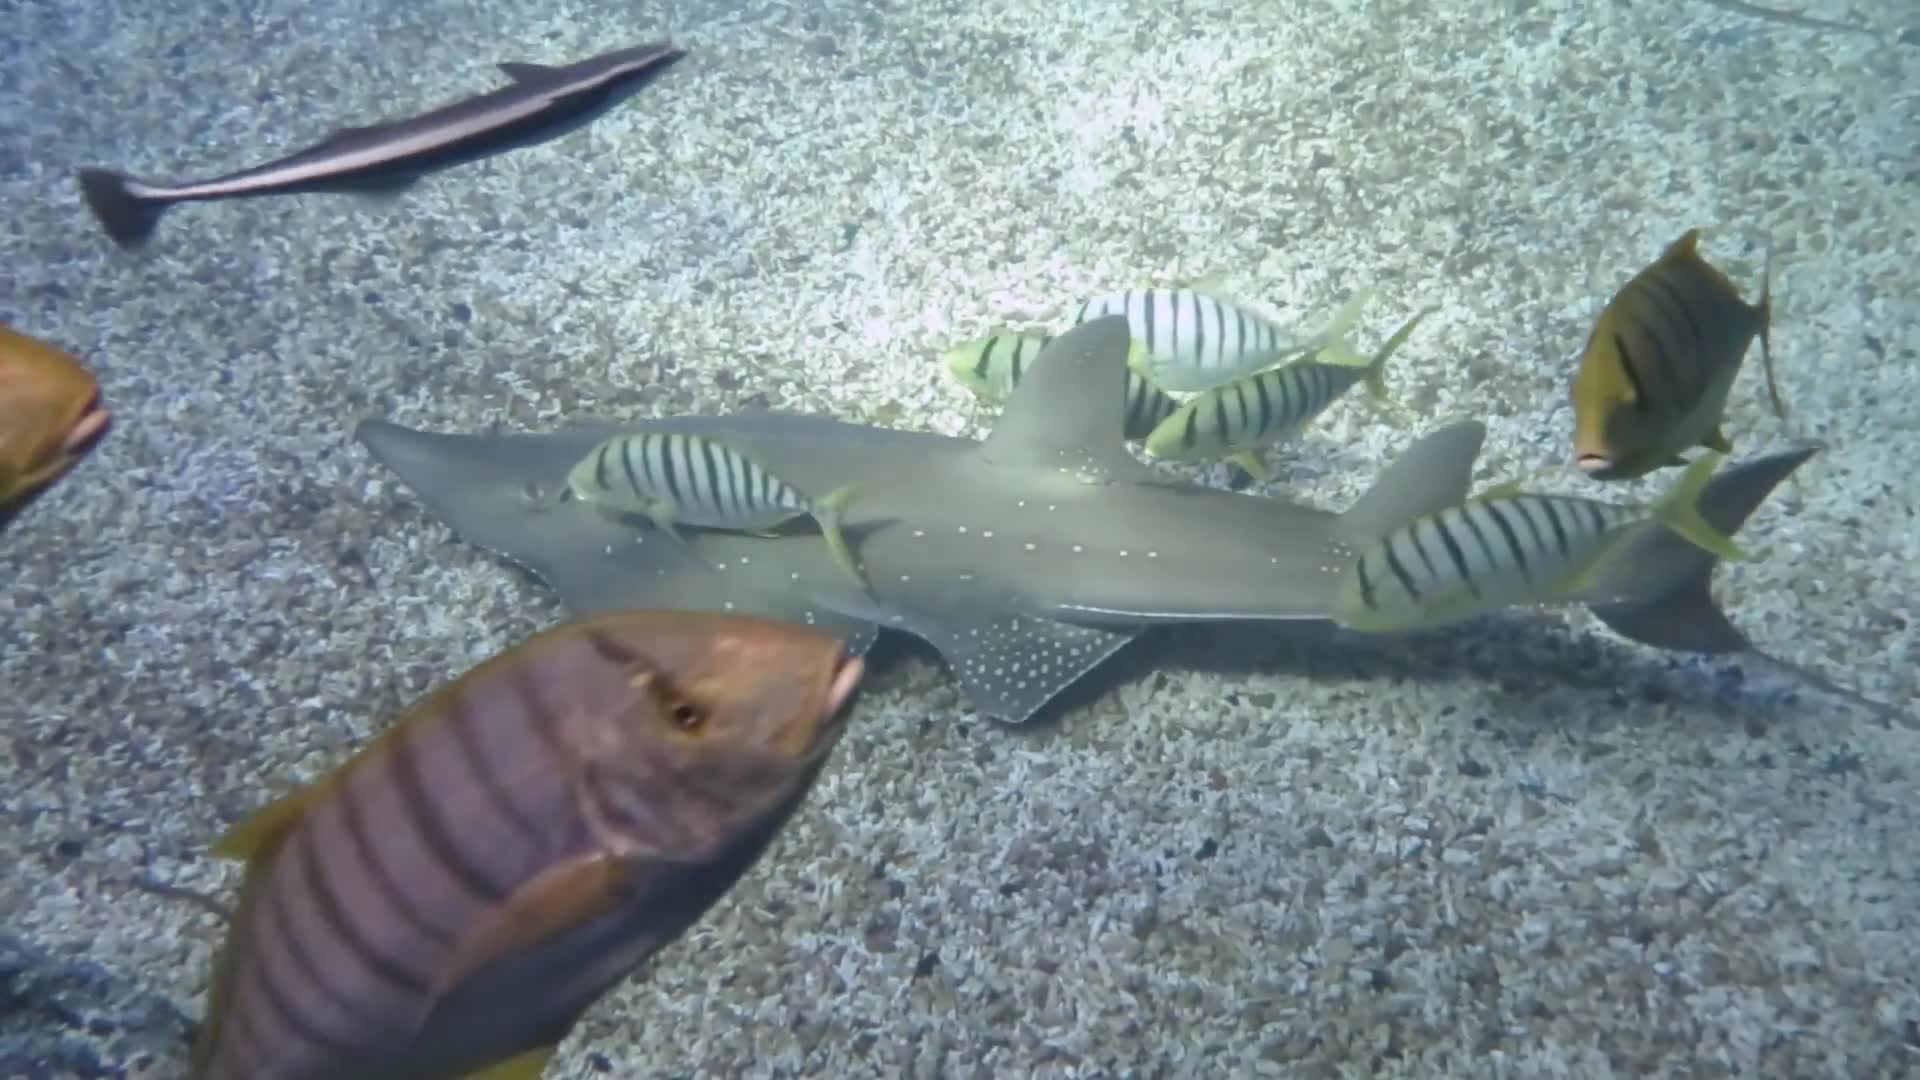Rhychobatus djiddensis: (356, 306, 1782, 658)
